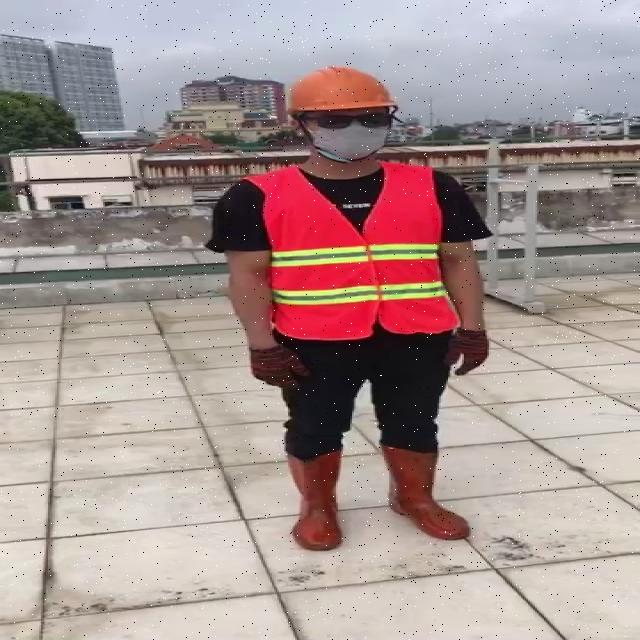Hard_hat: (283, 61, 406, 125)
Vest: (264, 157, 451, 341)
